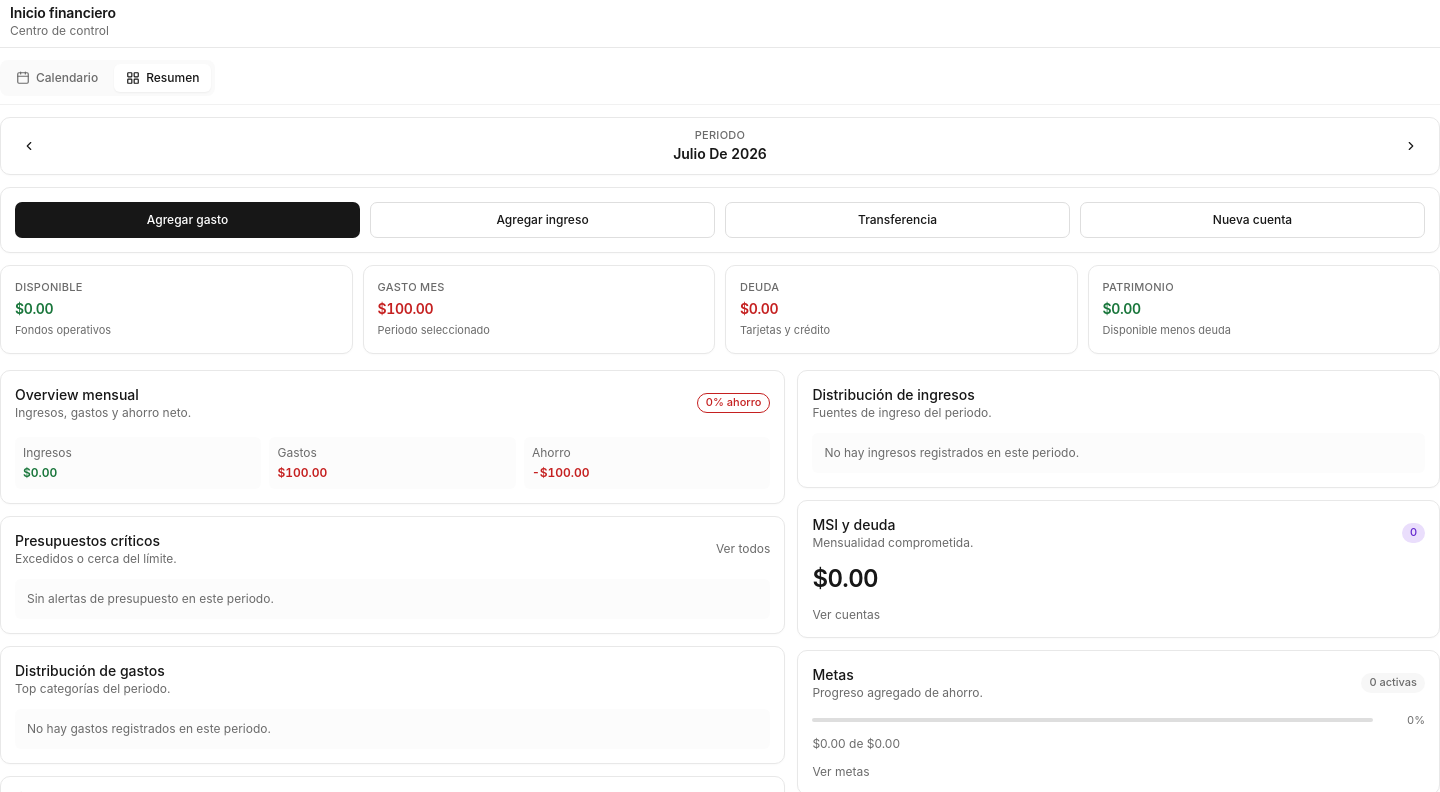
Test case: DashboardPage › anchors periods to local today and excludes movements after the period as-of date
Check: the text "julio de 2026" is shown, box [673, 144, 767, 164]
Click the button named "Periodo anterior": [29, 146] box [11, 128, 47, 164]
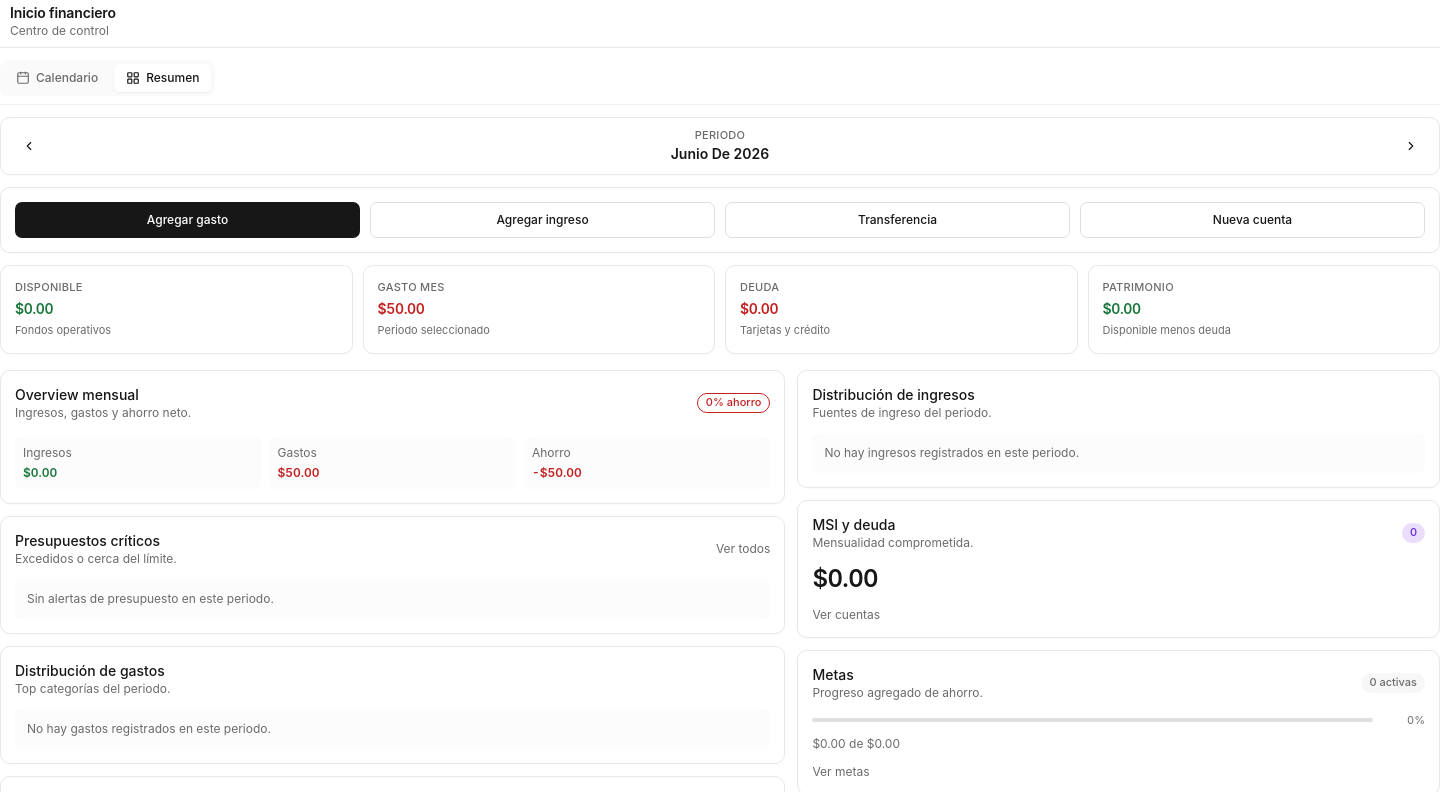
Check: the text "junio de 2026" is shown, box [671, 144, 769, 164]
Click the button named "Periodo siguiente": [1411, 146] box [1393, 128, 1429, 164]
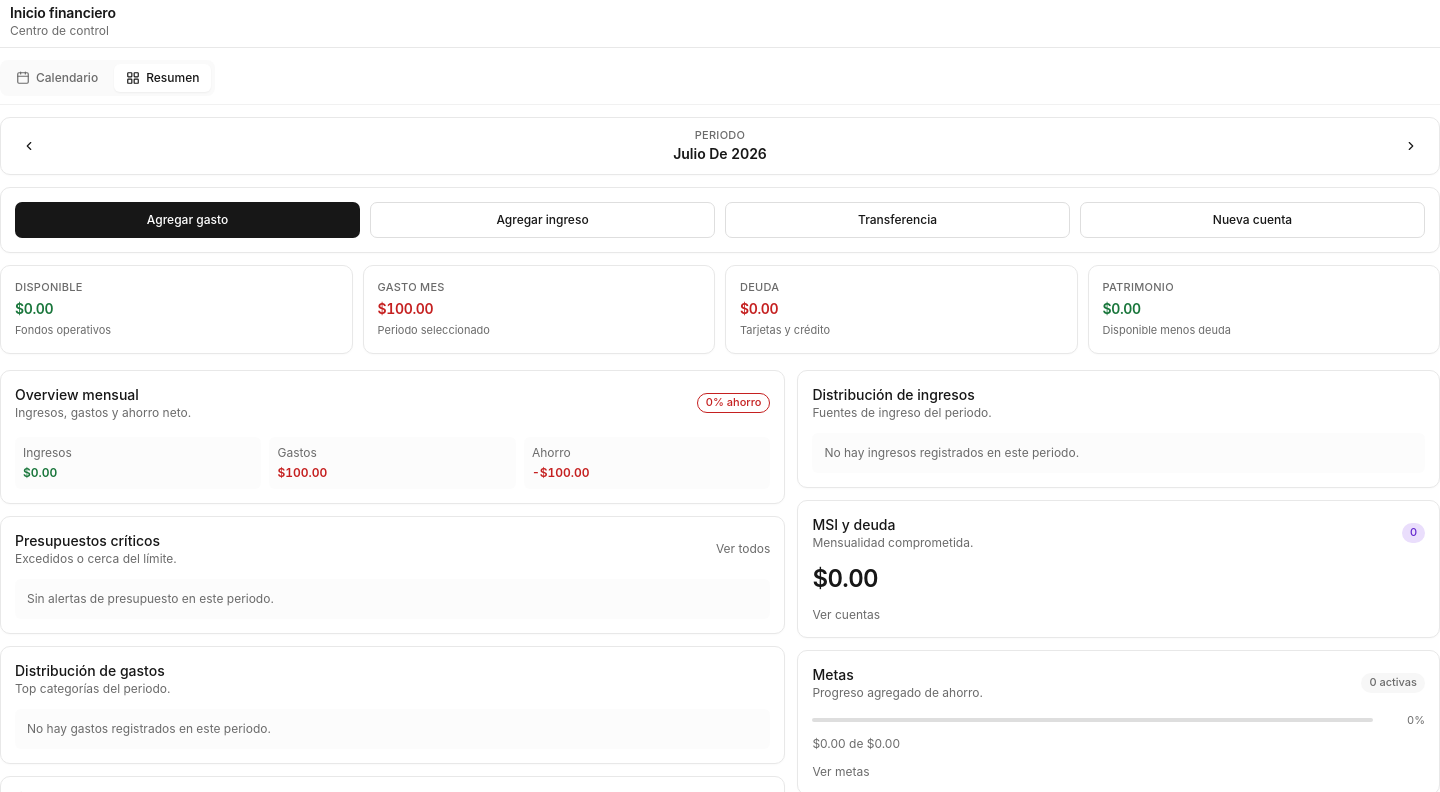
Click the button named "Periodo siguiente": [1411, 146] box [1393, 128, 1429, 164]
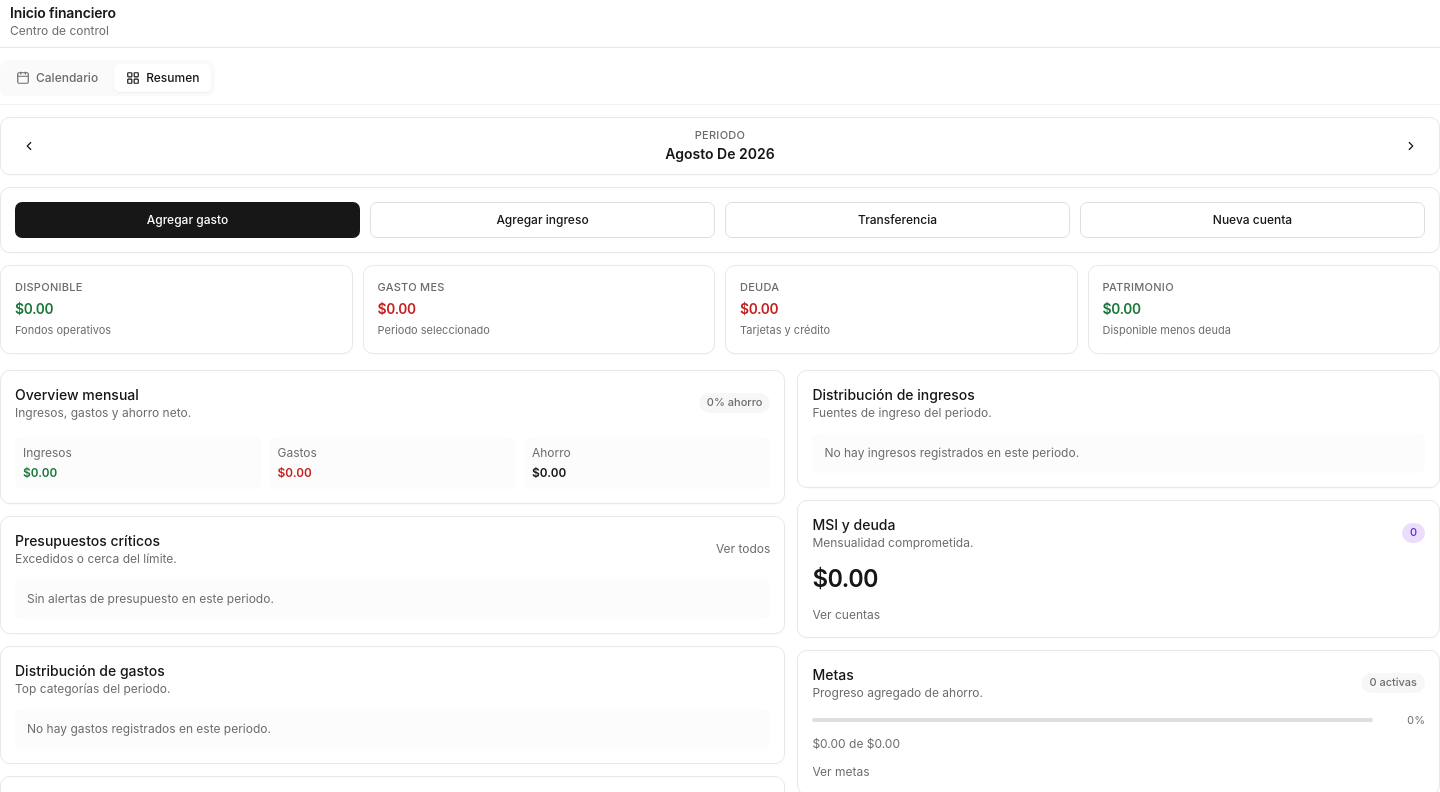
Check: the text "agosto de 2026" is shown, box [665, 144, 775, 164]
